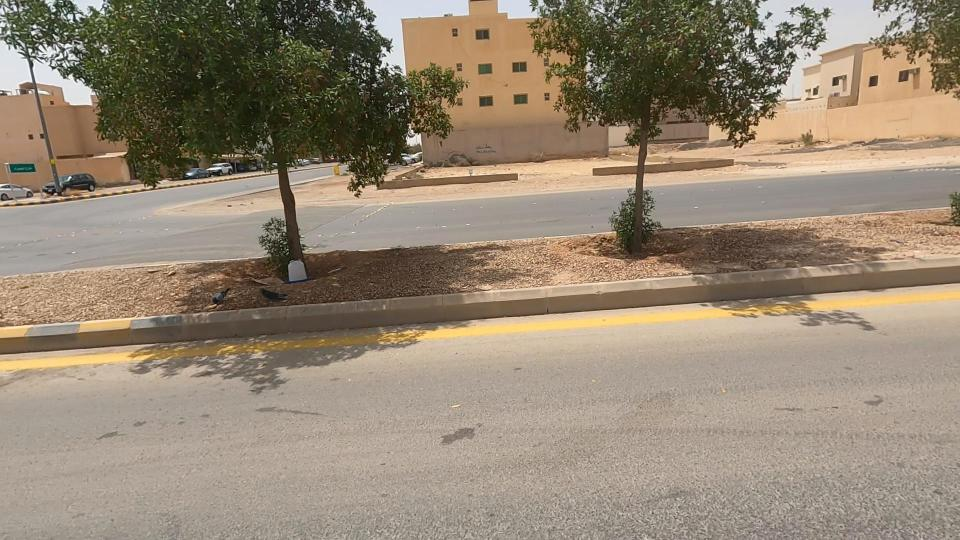CLUTTER_SIDEWALK: (193, 212, 785, 339), (7, 236, 367, 343), (619, 195, 960, 301)
GARBAGE: (139, 271, 342, 317), (256, 226, 333, 307)
